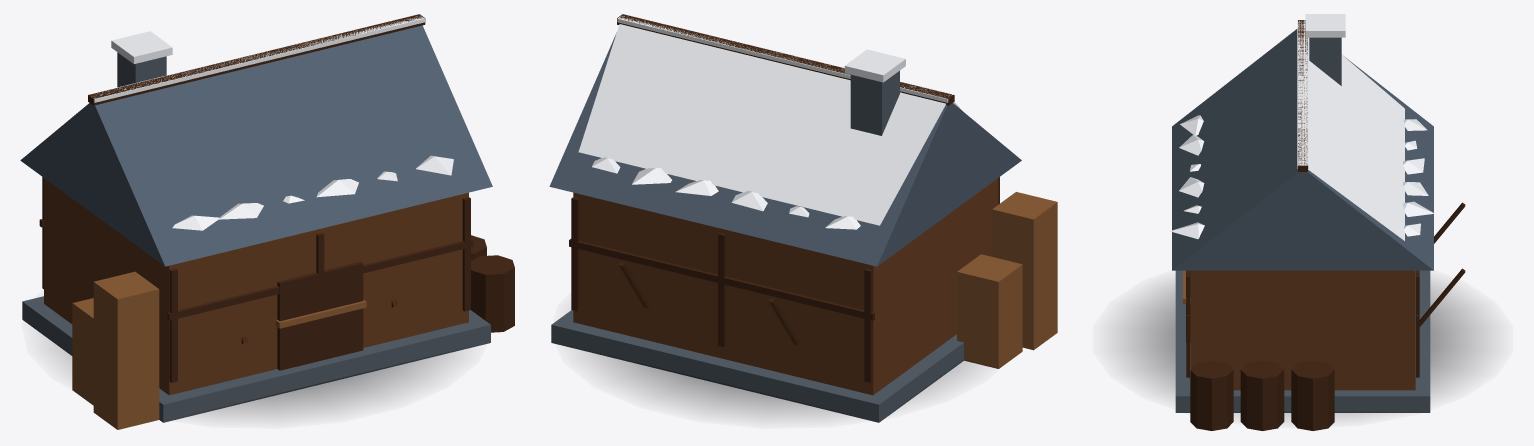
File: storehouse_t1.glb
The picture shows the model from 3 angles, left to right: view 1: azimuth 30°, elevation 25°; view 2: azimuth 150°, elevation 25°; view 3: azimuth 270°, elevation 25°; orthographic projection. The views are drawn at different scales.
Parts seen in each view (by area): view 1: storehouse_t1; view 2: storehouse_t1; view 3: storehouse_t1.
Part boxes in pixels (<box>): storehouse_t1: <box>20,14,514,429</box>; storehouse_t1: <box>549,14,1057,422</box>; storehouse_t1: <box>1119,14,1486,430</box>.
Bounding box in the file's own units: 6.06 × 4.17 × 6.
